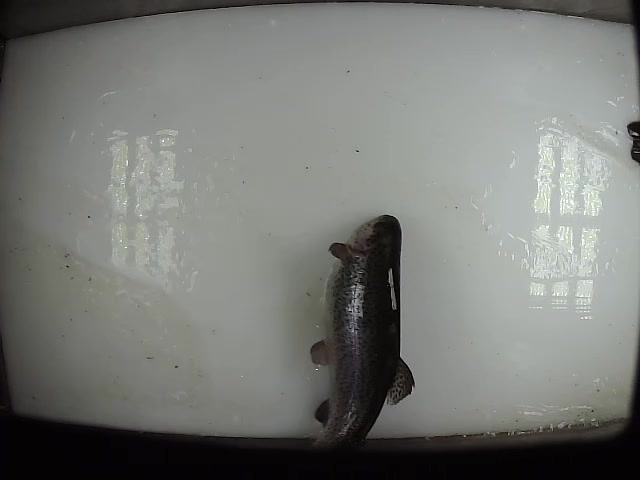fish: (308, 212, 416, 452)
